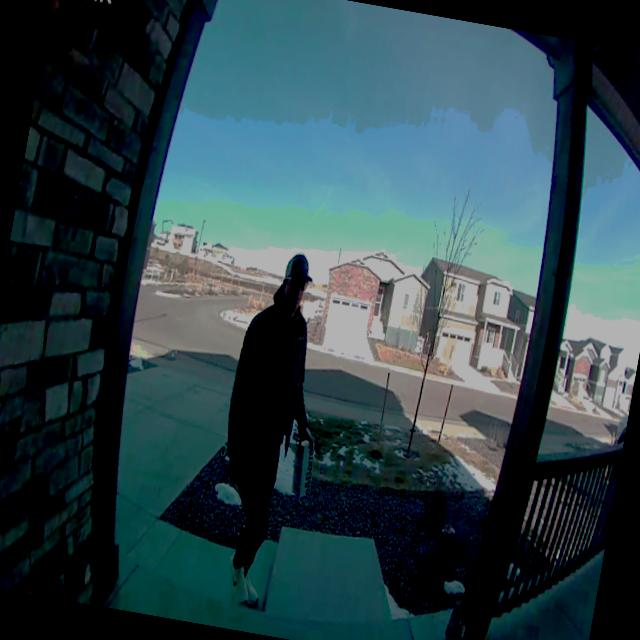Box: (288, 436, 322, 503)
